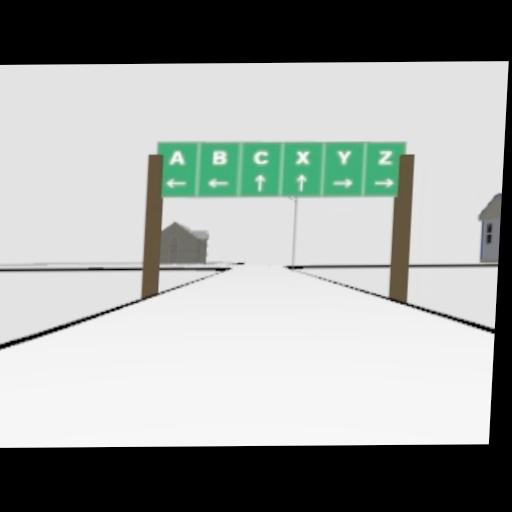A: (170, 150, 185, 165)
B: (213, 151, 228, 164)
C: (252, 147, 268, 163)
Left: (166, 177, 187, 189), (205, 176, 228, 186)
Right: (333, 177, 354, 187), (373, 177, 394, 187)
Straight: (252, 172, 265, 190), (294, 173, 307, 191)
X: (296, 149, 310, 162)
Y: (337, 149, 351, 164)
Z: (378, 149, 392, 164)
